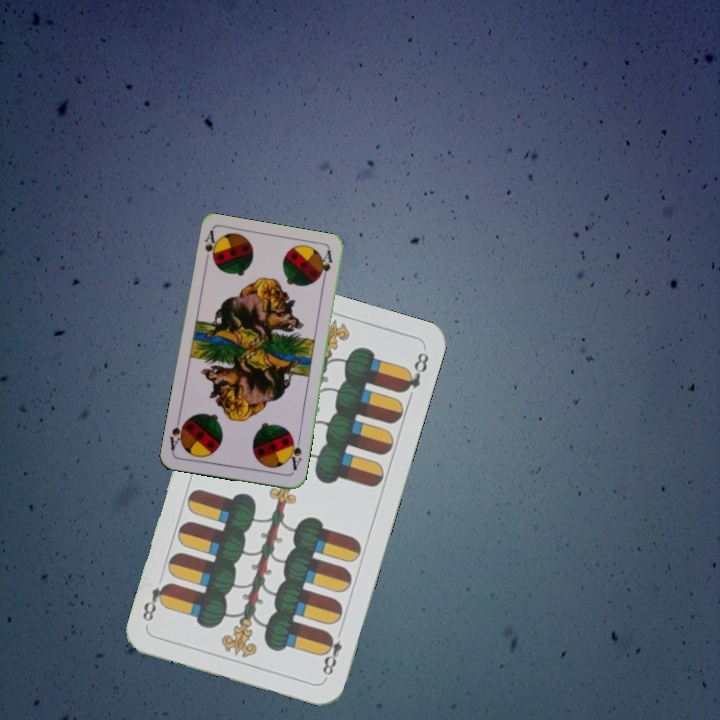E8: (318, 629, 345, 681)
SA: (200, 227, 220, 268), (284, 433, 304, 473)
